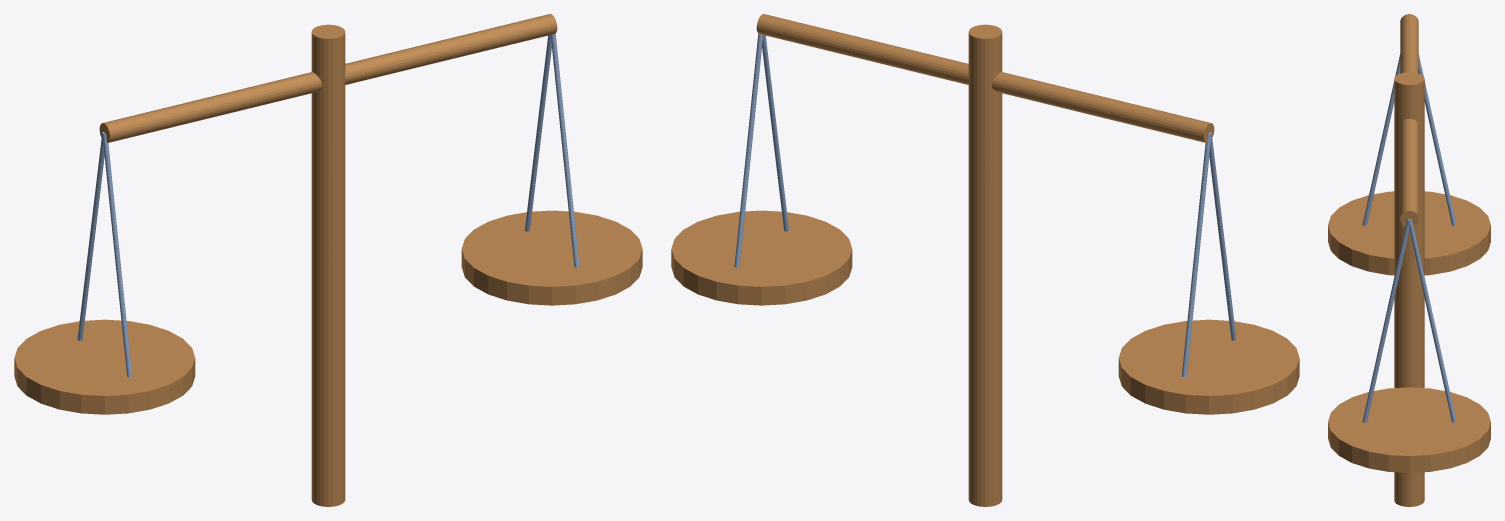
File: balanca.glb
3 renders of one model, left to right at view 1: azimuth 30°, elevation 25°; view 2: azimuth 150°, elevation 25°; view 3: azimuth 270°, elevation 25°, orthographic. The views are drawn at different scales.
Visible parts, largest first — view 1: Coluna, Prato, Prato.001, Braço, Suspensão.001, Suspensão.003, Suspensão, Suspensão.002; view 2: Coluna, Prato, Prato.001, Braço, Suspensão, Suspensão.002, Suspensão.001, Suspensão.003; view 3: Prato.001, Prato, Coluna, Braço, Suspensão.002, Suspensão.003, Suspensão, Suspensão.001.
Part boxes in pixels (x1,y1,x2,y2): Coluna: (311, 24, 345, 506); Prato: (14, 319, 195, 414); Prato.001: (461, 210, 642, 305); Braço: (99, 14, 557, 142); Suspensão.001: (102, 133, 132, 376); Suspensão.003: (550, 33, 579, 267); Suspensão: (77, 132, 104, 340); Suspensão.002: (524, 35, 551, 231); Coluna: (968, 24, 1002, 506); Prato: (1118, 319, 1299, 414); Prato.001: (671, 210, 852, 305); Braço: (756, 14, 1214, 142); Suspensão: (1181, 133, 1211, 376); Suspensão.002: (734, 33, 763, 267); Suspensão.001: (1209, 132, 1236, 340); Suspensão.003: (762, 35, 789, 231); Prato.001: (1328, 387, 1490, 472); Prato: (1328, 191, 1490, 275); Coluna: (1394, 72, 1424, 506); Braço: (1400, 14, 1418, 226); Suspensão.002: (1409, 219, 1456, 422); Suspensão.003: (1362, 219, 1409, 422); Suspensão: (1418, 54, 1456, 225); Suspensão.001: (1362, 54, 1400, 225).
Size of the model in its own units: 2.7 by 2 by 0.7.
2 materials, 1 textured.
